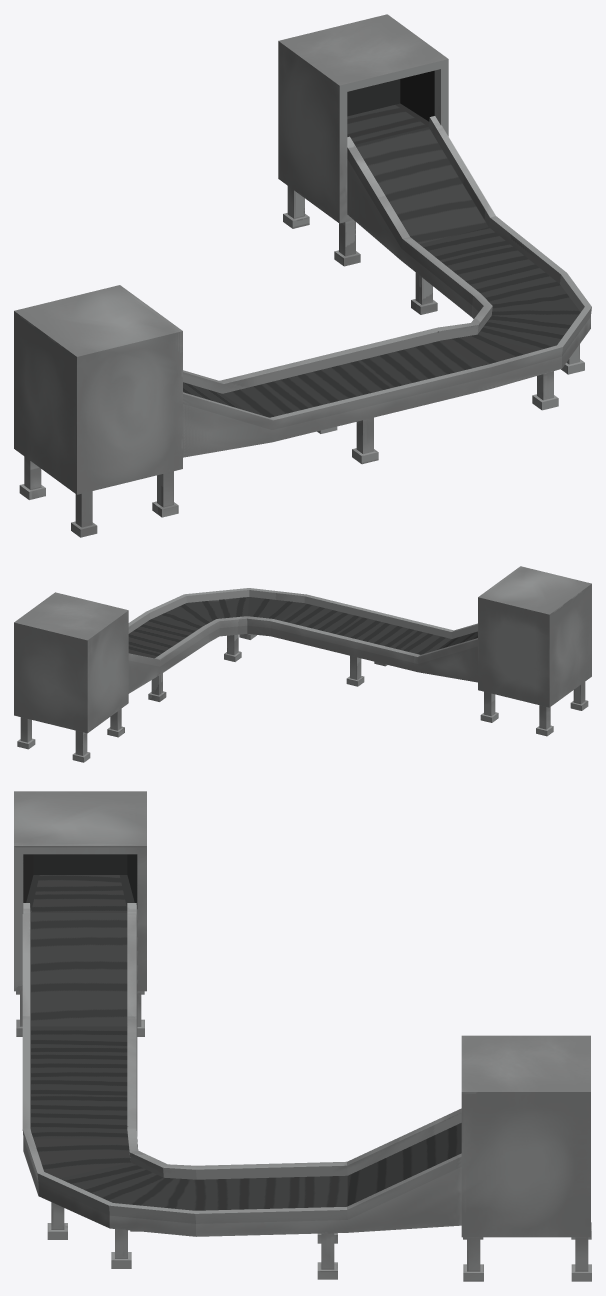
Rendered from Machine.fbx.
The picture shows the model from 3 angles, top to bottom: view 1: azimuth 30°, elevation 25°; view 2: azimuth 150°, elevation 25°; view 3: azimuth 270°, elevation 25°; orthographic projection. The views are drawn at different scales.
Visible parts, largest first — view 1: Cube; view 2: Cube; view 3: Cube.
Boxes of the visible parts, bbox=[...] form: Cube: bbox=[14, 14, 591, 537]; Cube: bbox=[14, 566, 591, 762]; Cube: bbox=[14, 791, 591, 1281].
Size of the model in its own units: 2133 by 637 by 1734.
1 material, 1 textured.
